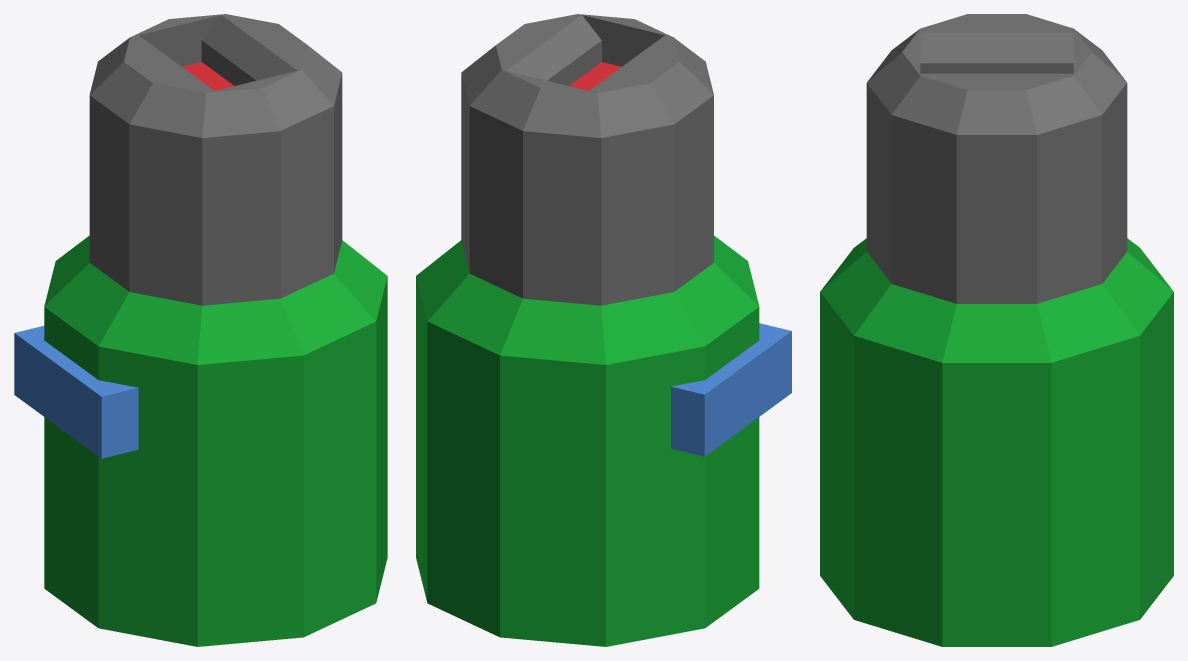
Rendered from canonPrototype.fbx.
3 renders of one model, left to right at view 1: azimuth 30°, elevation 25°; view 2: azimuth 150°, elevation 25°; view 3: azimuth 270°, elevation 25°, orthographic.
Parts seen in each view (by area): view 1: Circle; view 2: Circle; view 3: Circle.
Part boxes in pixels (x1=…): Circle: x1=14, y1=14, x2=387, y2=646; Circle: x1=416, y1=14, x2=791, y2=646; Circle: x1=820, y1=14, x2=1173, y2=646.
Bounding box in the file's own units: 200 × 327 × 200.
